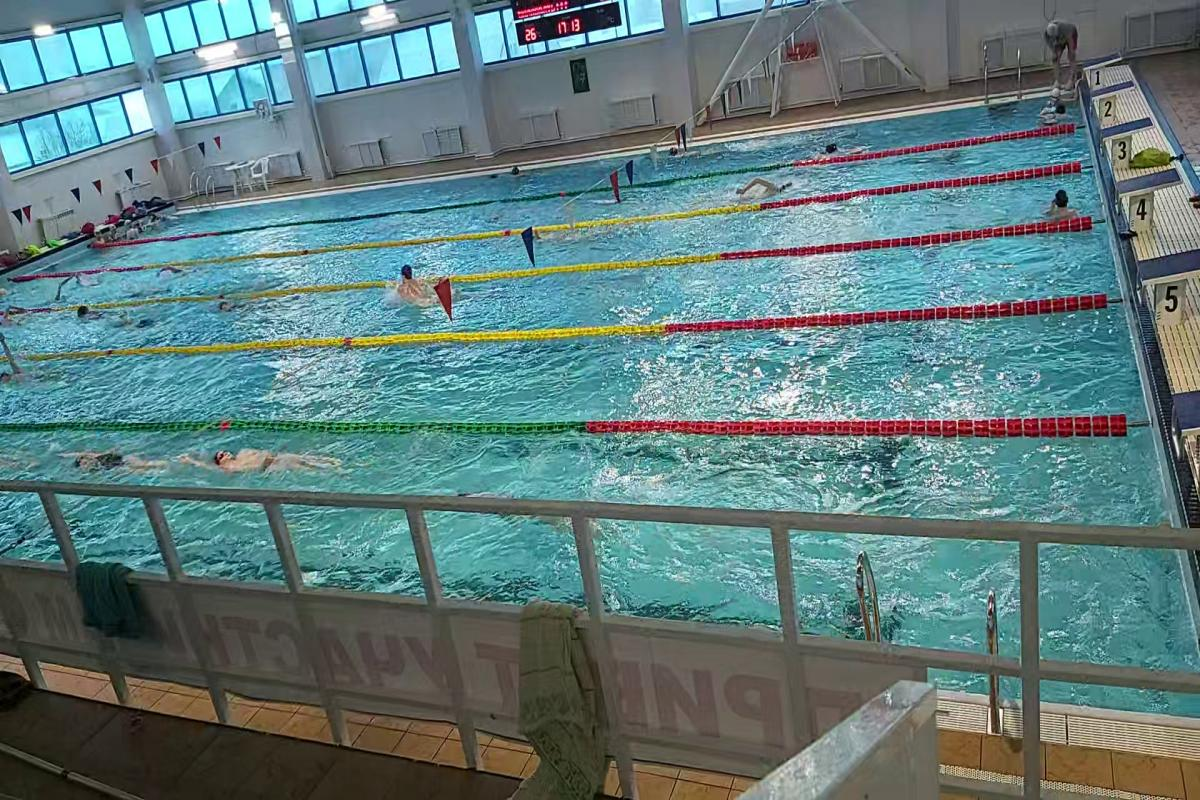swimmer: (178, 435, 351, 481), (59, 442, 173, 476), (2, 328, 42, 392), (391, 258, 433, 310), (734, 169, 797, 201), (1042, 185, 1086, 222), (212, 294, 264, 314), (73, 303, 108, 327)
